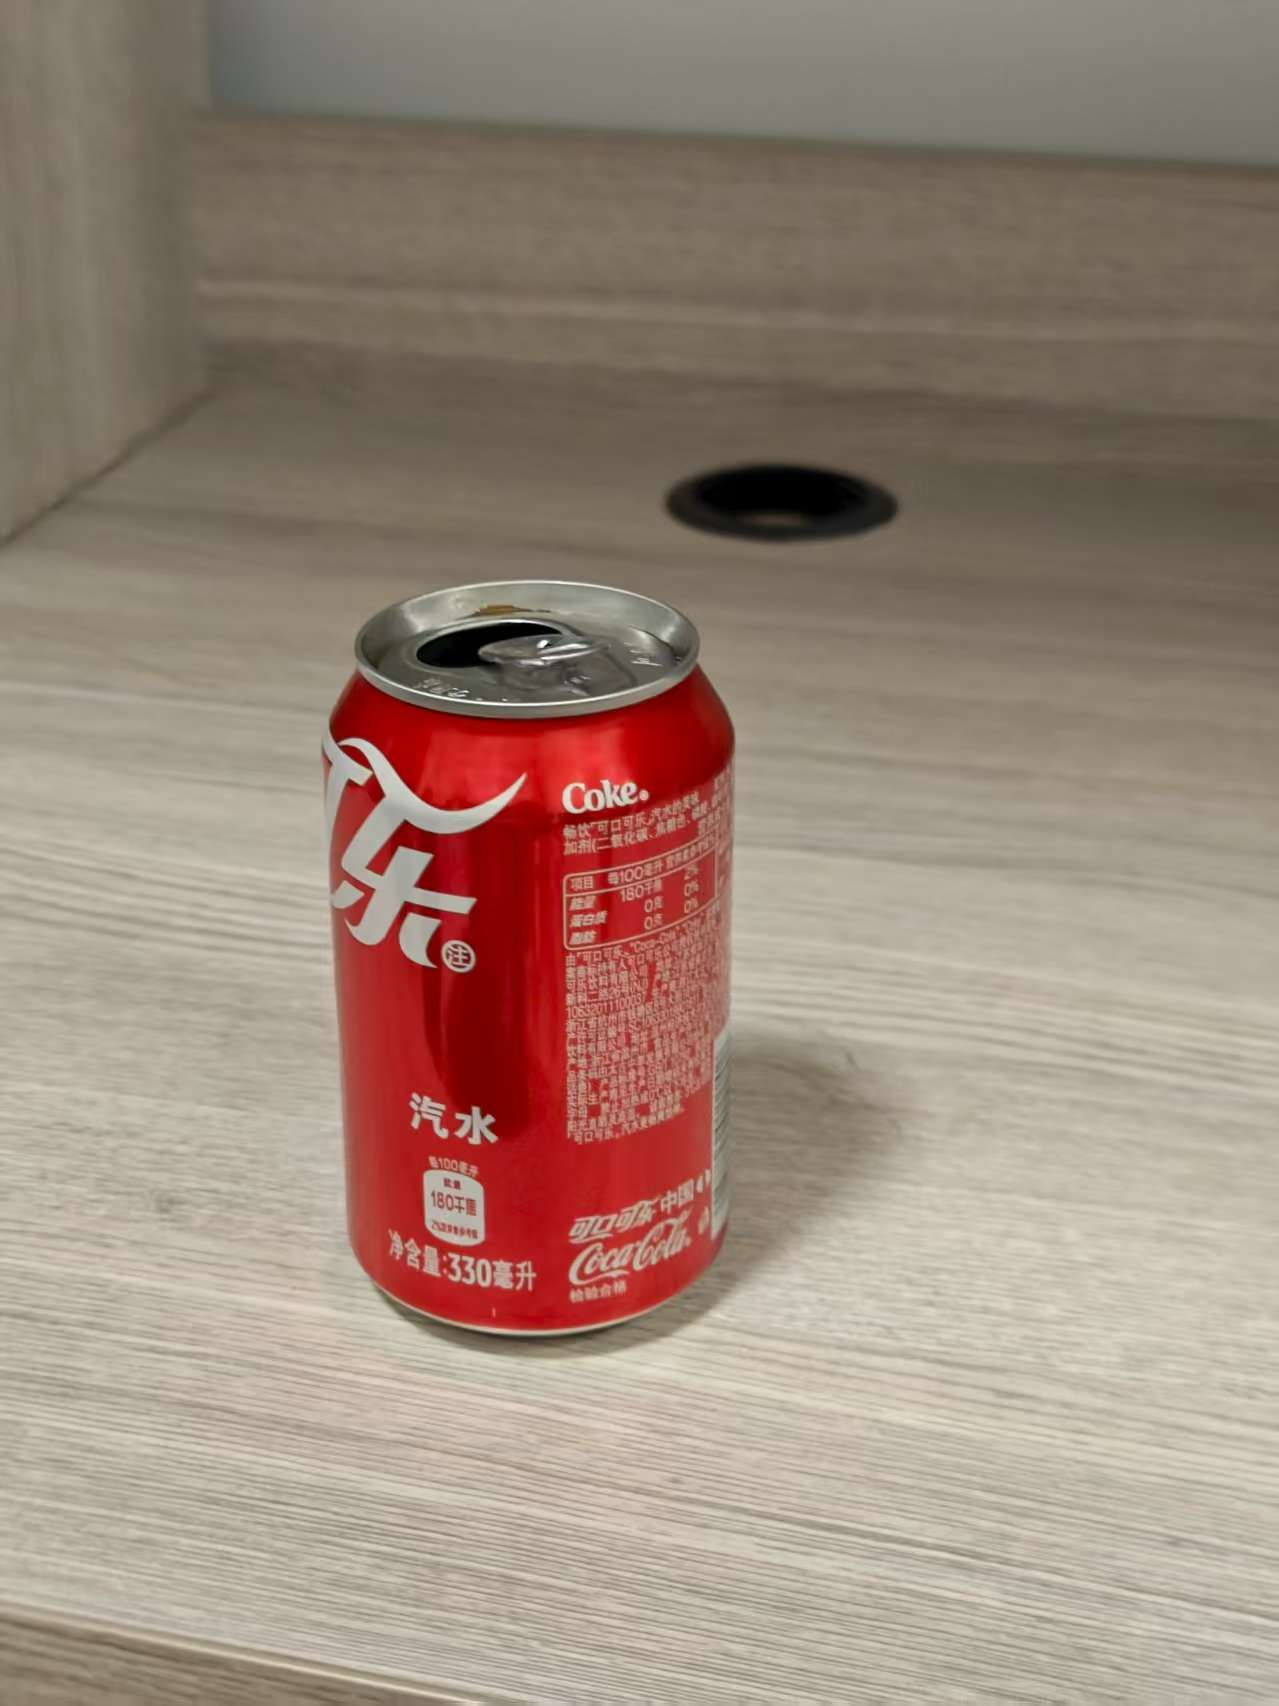可乐: (263, 566, 802, 1358)
